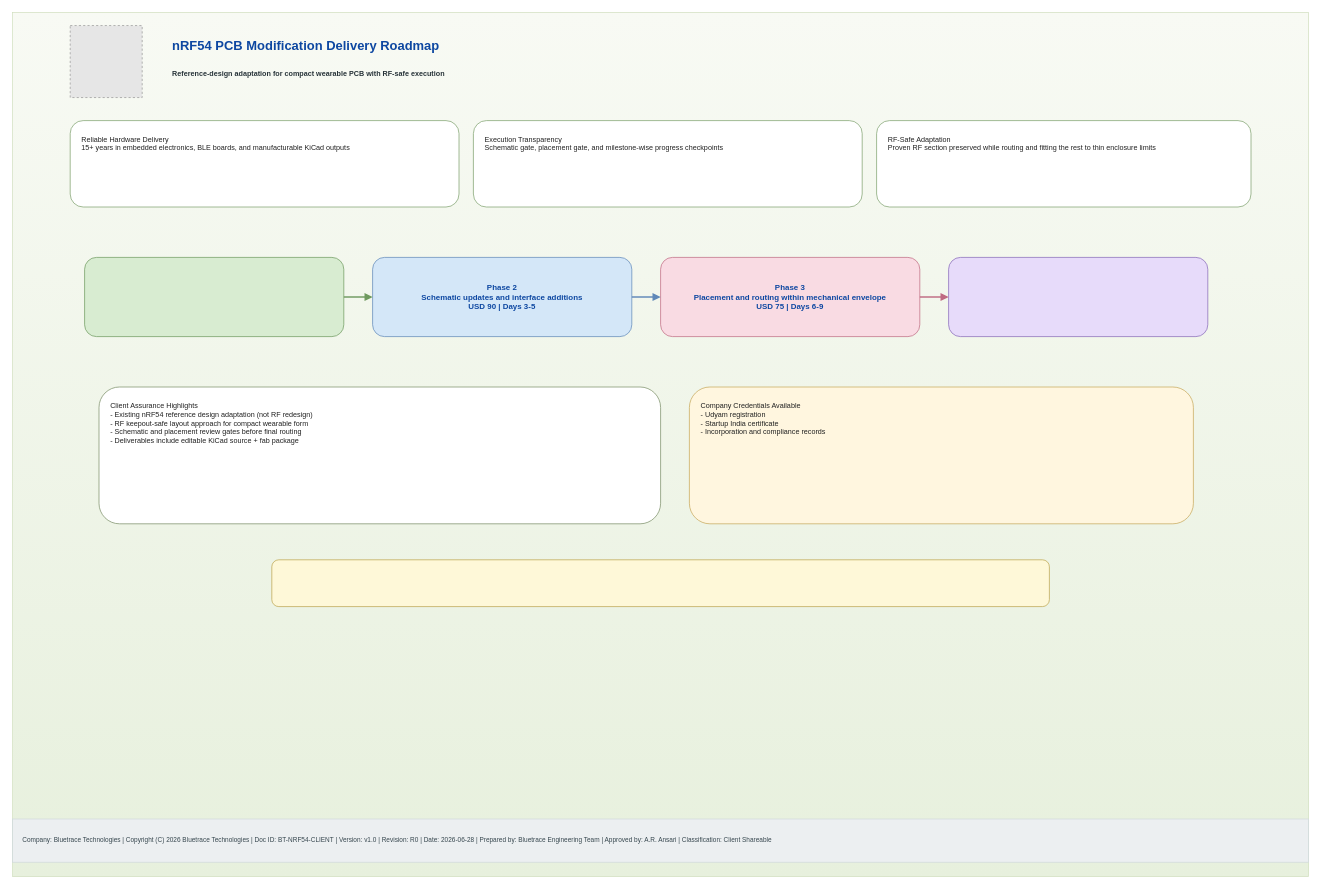
The diagram is 1321 pixels wide and 889 high, and some of its shapes have lost their labels. Grey dashed boxes stand in for pictures. The shapes that lost their labels are listed below. From the top down, each one's centre as x and y in pixels, then its label:
At (x=214, y=297): "Phase 1 Reference audit and schematic modification plan USD 90 | Days 1-2".
At (x=1078, y=297): "Phase 4 DFM closeout and manufacturing package USD 45 | Days 10-12".
At (x=660, y=583): "Estimated Overall Timeline: 10 to 12 days".
